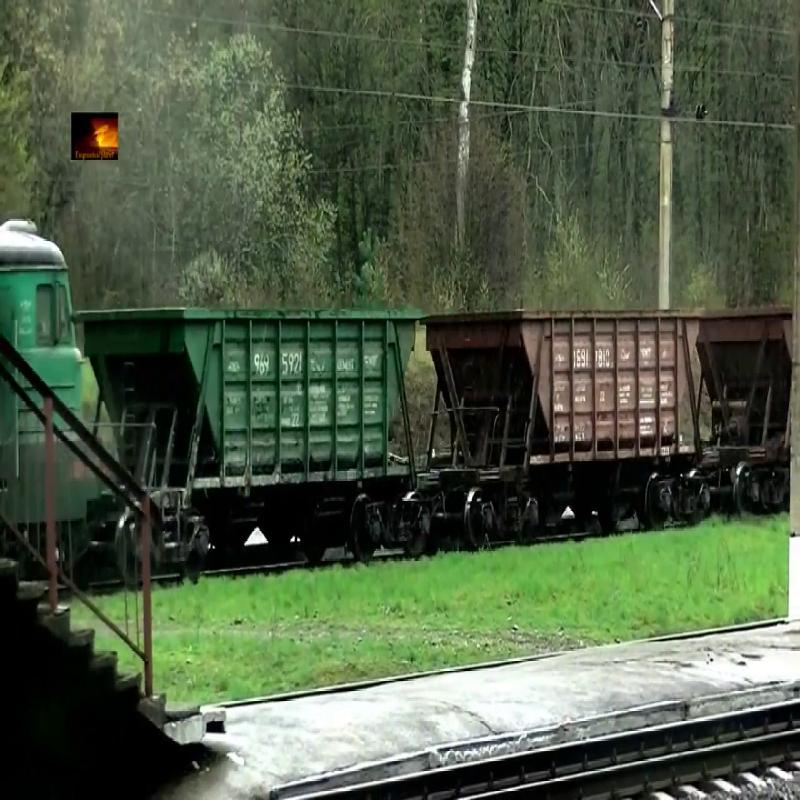train: (79, 308, 418, 488), (425, 311, 702, 468), (697, 309, 800, 466)
